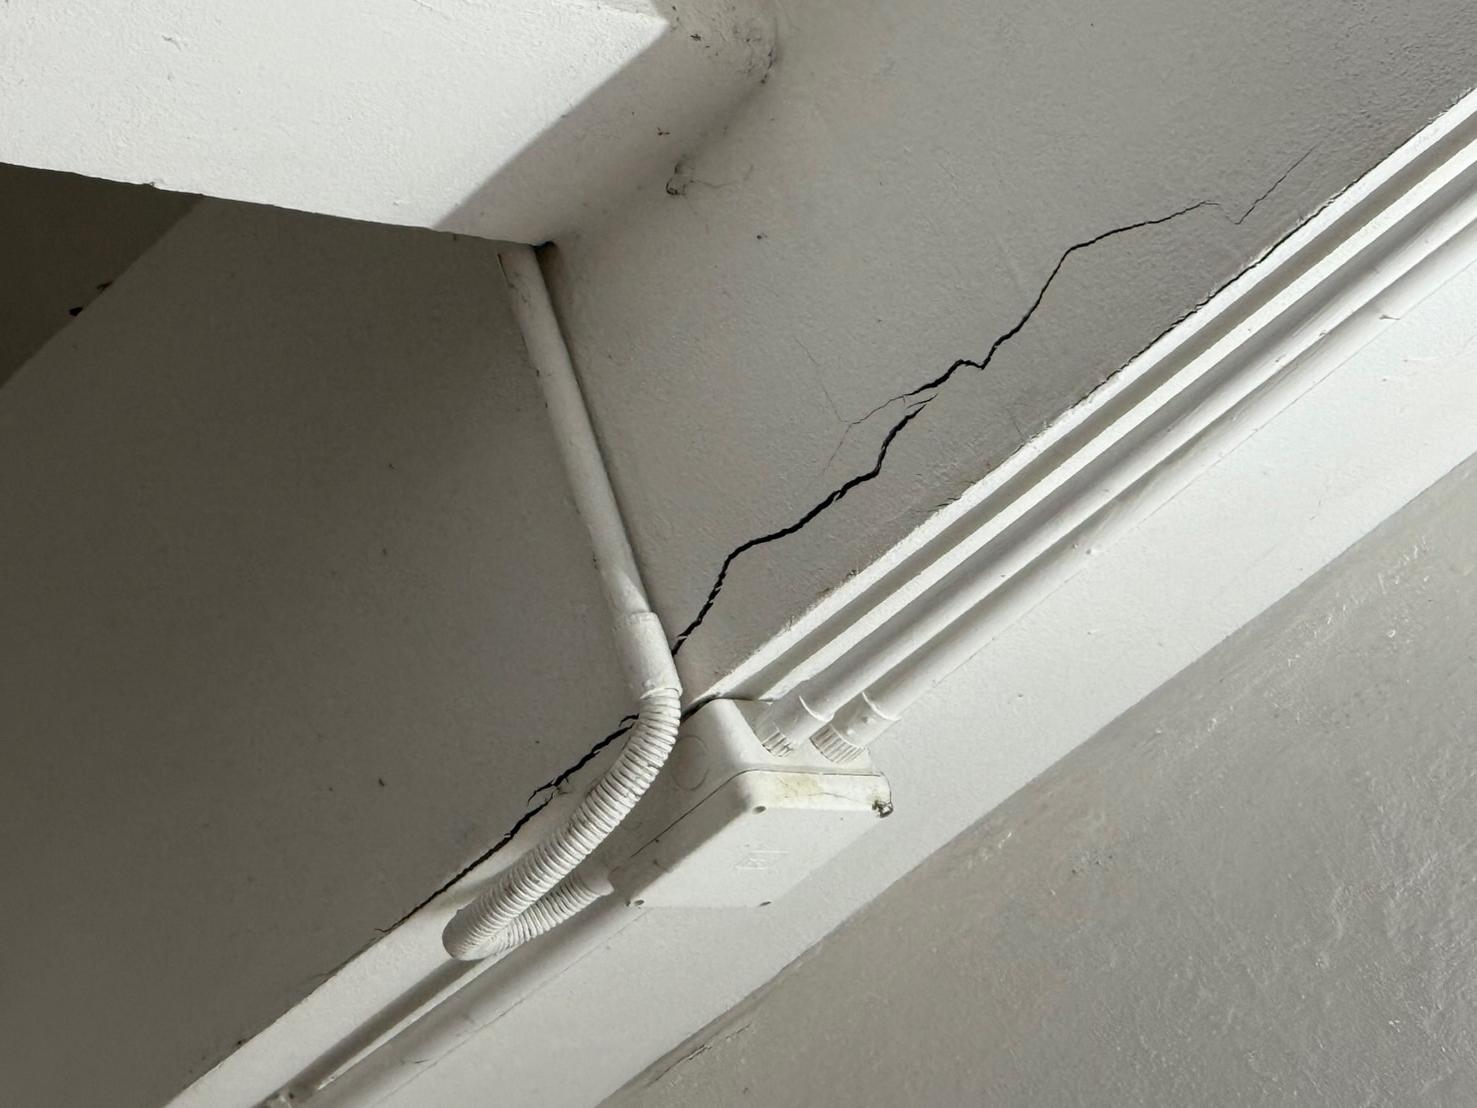High: (253, 203, 1376, 956)
